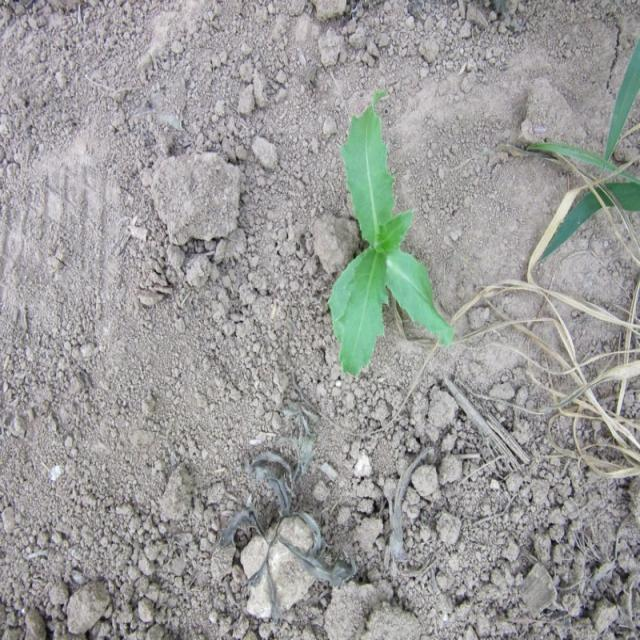cs: (319, 95, 454, 386)
